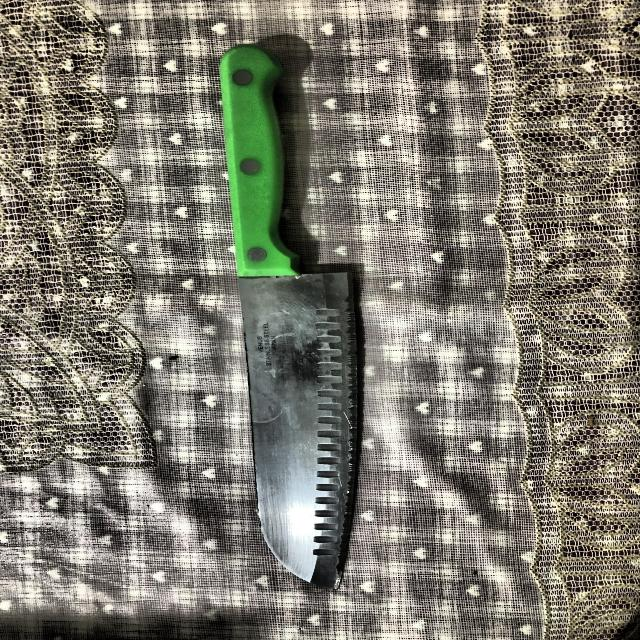knife: (220, 48, 358, 588)
